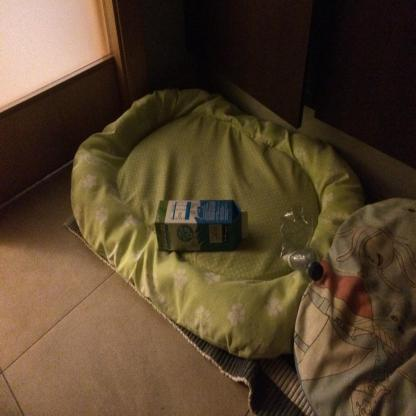karton: (154, 198, 249, 252)
plastik: (280, 204, 324, 282)
